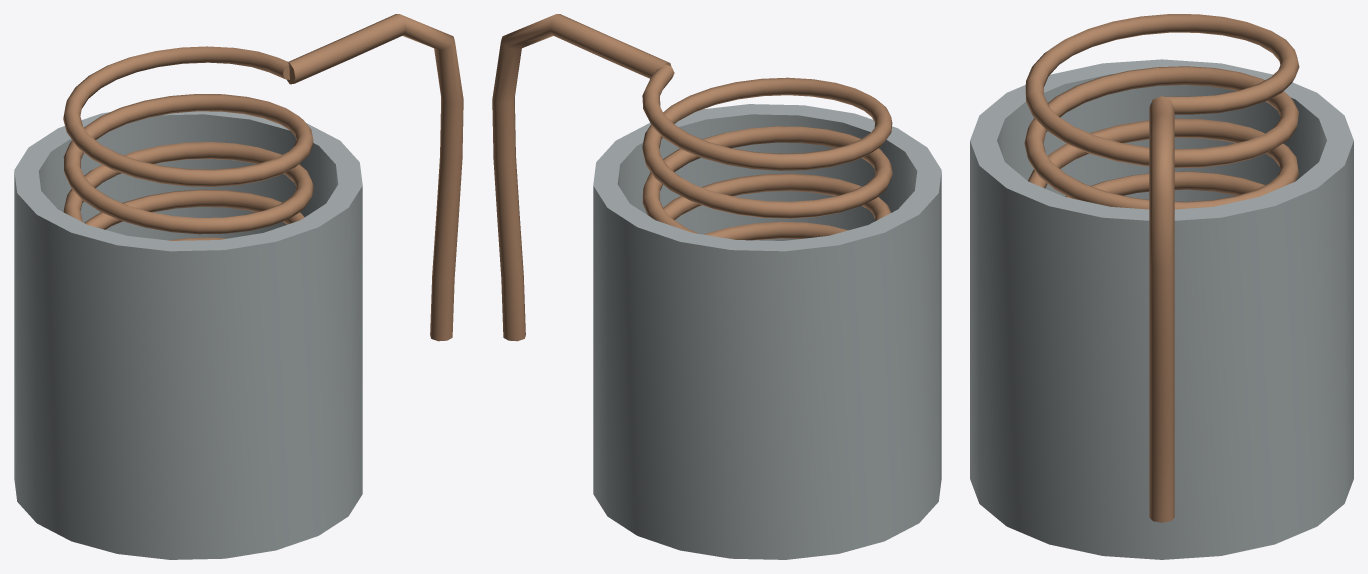
File: water-collection-and-purification-distillation-coil-adba244d__20196.glb
3 views of the same model, side by side, from view 1: azimuth 30°, elevation 25°; view 2: azimuth 150°, elevation 25°; view 3: azimuth 270°, elevation 25° (orthographic). The views are drawn at different scales.
Visible parts, largest first — view 1: distillation-coil; view 2: distillation-coil; view 3: distillation-coil.
Boxes of the visible parts, box(x1,y1,x2,y2) form: distillation-coil: box(14, 14, 463, 559); distillation-coil: box(492, 14, 941, 559); distillation-coil: box(970, 14, 1353, 559).
Size of the model in its own units: 0.5051 by 0.4772 by 0.36.
